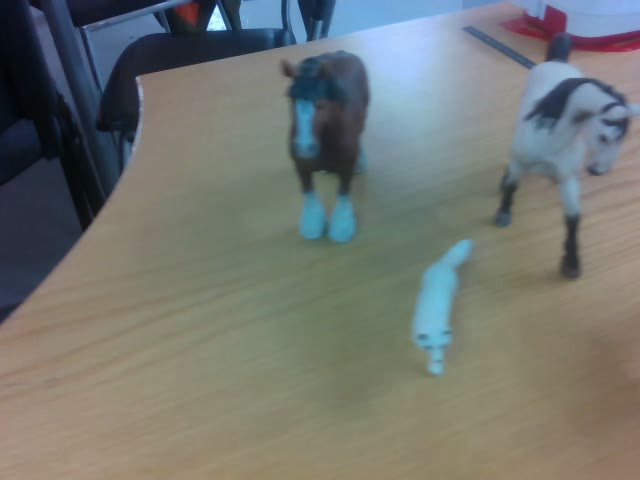toy: (500, 33, 639, 279), (277, 49, 370, 241), (409, 240, 471, 377)
